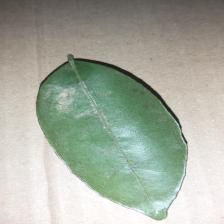healthy: (44, 71, 192, 203)
